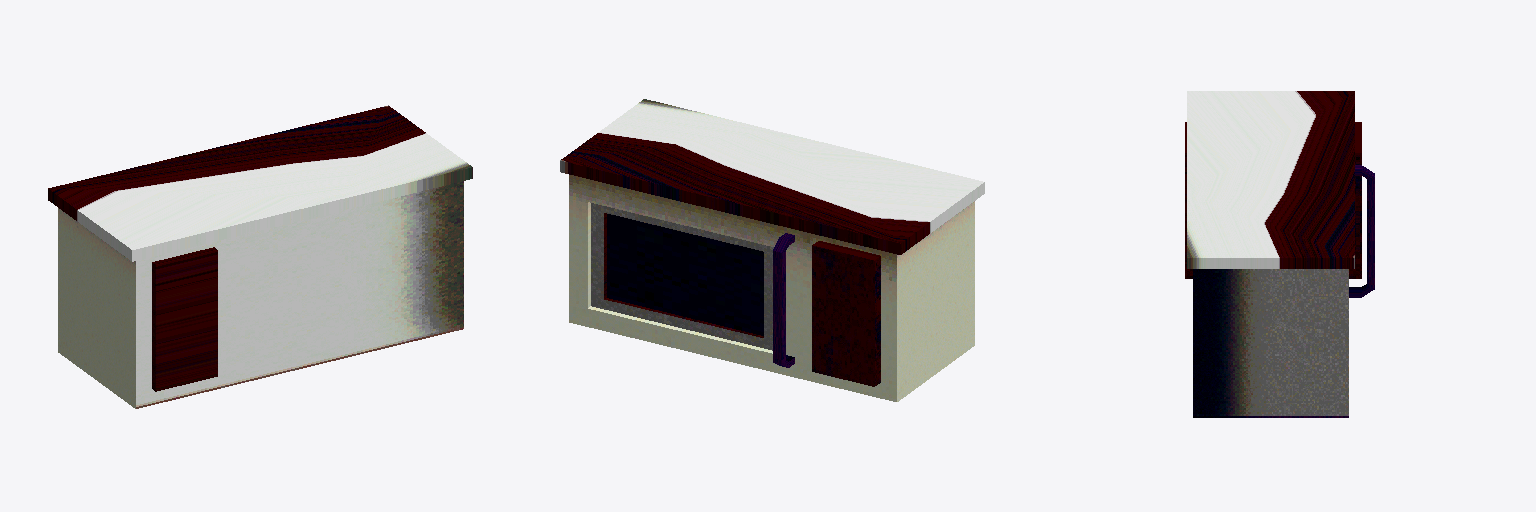
The picture shows the model from 3 angles: view 1: azimuth 30°, elevation 25°; view 2: azimuth 150°, elevation 25°; view 3: azimuth 270°, elevation 25°; orthographic projection.
Visible parts, largest first — view 1: Cube.048; view 2: Cube.048; view 3: Cube.048.
Boxes of the visible parts, box(x1,y1,x2,y2) form: Cube.048: box(48, 105, 472, 408); Cube.048: box(560, 99, 984, 401); Cube.048: box(1185, 91, 1374, 417).
Size of the model in its own units: 2.01 by 0.9193 by 0.9695.
1 materials, 1 textured.